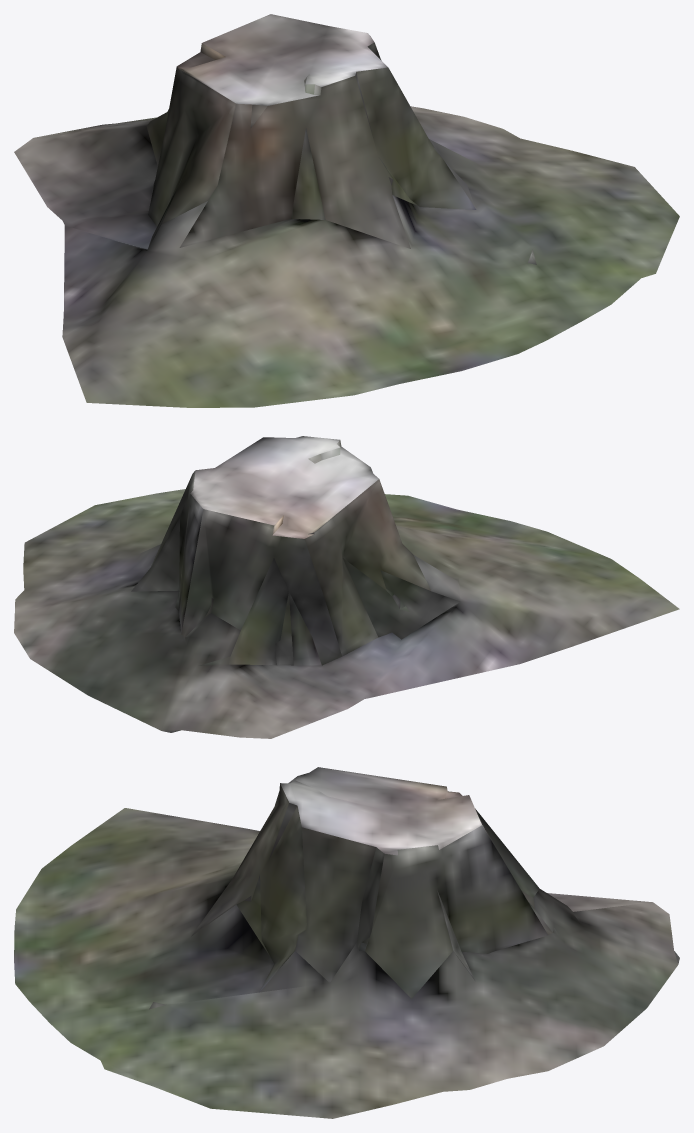
The model's file is jungle-stump.lod1.glb.
3 views of the same model, one above another, from view 1: azimuth 30°, elevation 25°; view 2: azimuth 150°, elevation 25°; view 3: azimuth 270°, elevation 25° (orthographic). The views are drawn at different scales.
Visible parts, largest first — view 1: stump_final_upload_stump_0; view 2: stump_final_upload_stump_0; view 3: stump_final_upload_stump_0.
Part boxes in pixels (left/top/right/bottom): stump_final_upload_stump_0: left=14, top=14, right=679, bottom=407; stump_final_upload_stump_0: left=14, top=436, right=679, bottom=738; stump_final_upload_stump_0: left=14, top=767, right=679, bottom=1118.
Bounding box in the file's own units: 1.59 × 0.435 × 1.45.
1 material, 1 textured.
